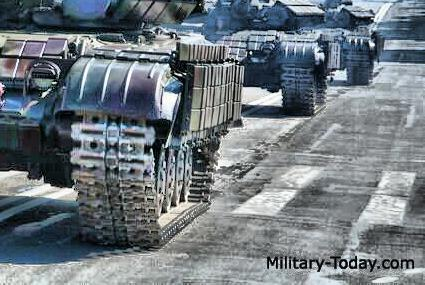tanks: (1, 1, 244, 248), (204, 1, 342, 116), (326, 1, 384, 86)
